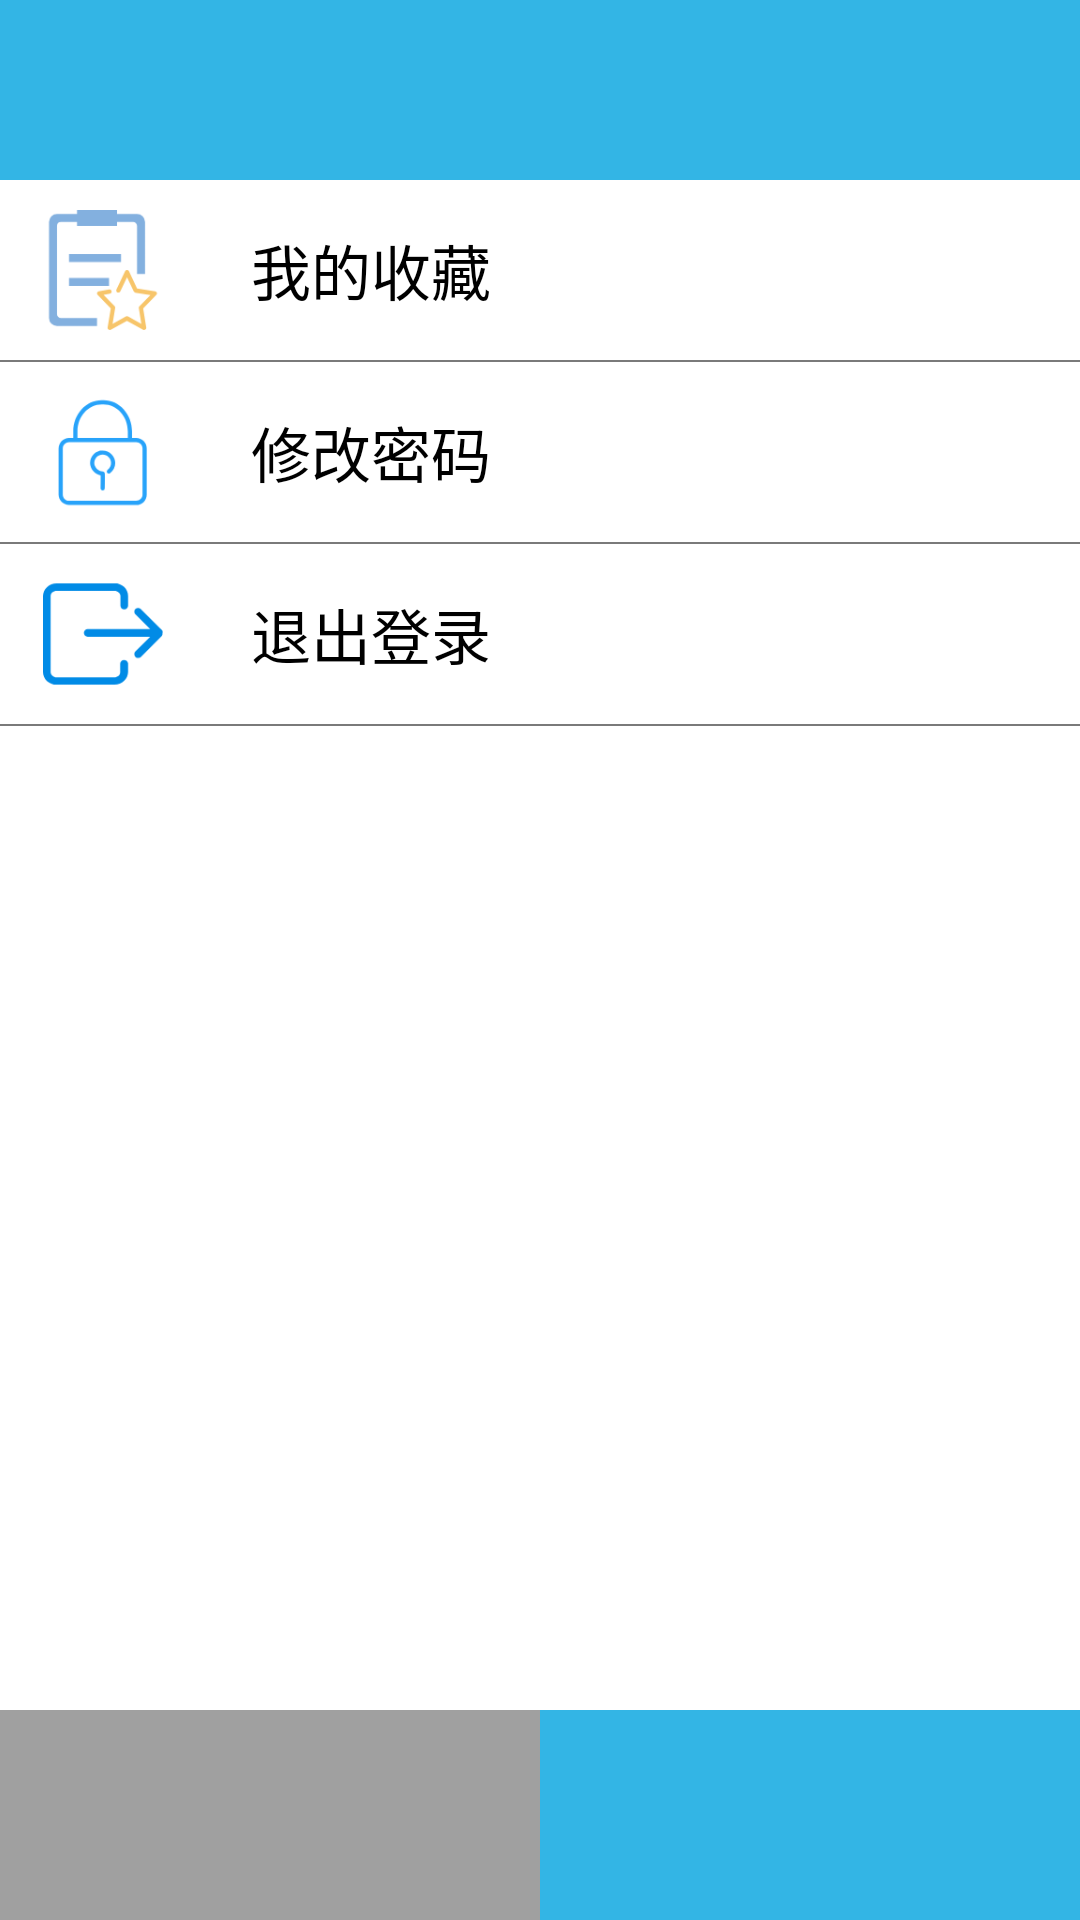

Named icons in this screenshot (1080 × 1920) and their bounding boxes, (x1, y1, x2, y2):
changep: (58, 399, 147, 506)
collection: (48, 210, 158, 330)
